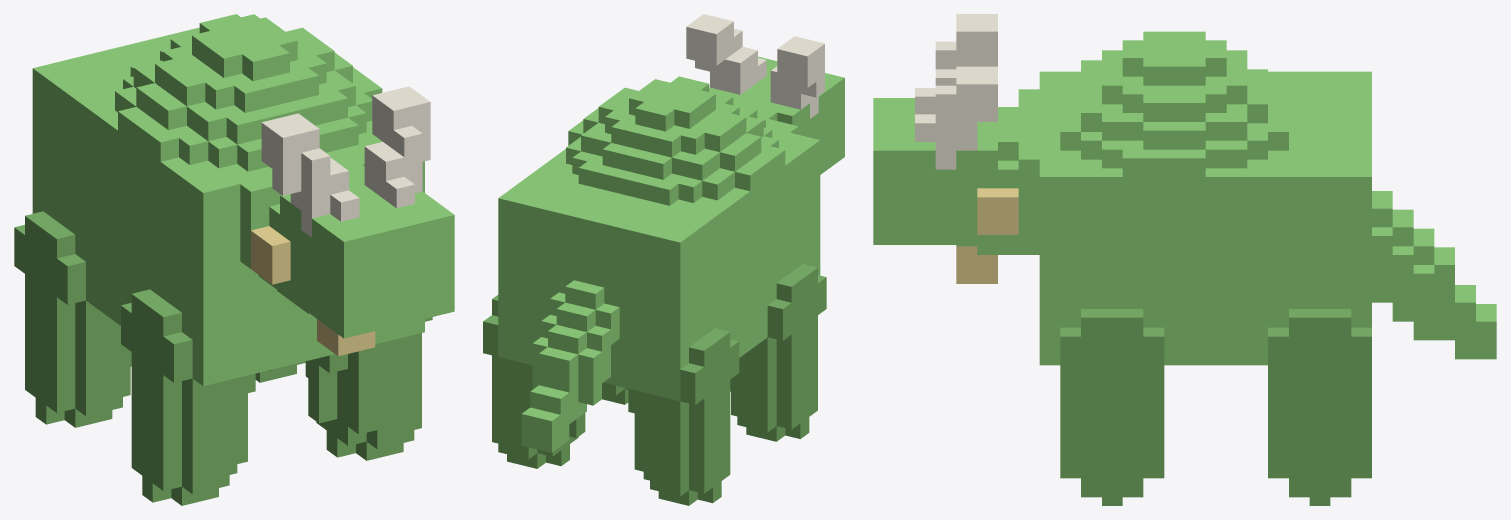
File: bovine-42.glb
The picture shows the model from 3 angles, left to right: view 1: azimuth 30°, elevation 25°; view 2: azimuth 150°, elevation 25°; view 3: azimuth 270°, elevation 25°; orthographic projection. The views are drawn at different scales.
Parts seen in each view (by area): view 1: body, head, legFL, legBL, legFR, hornLeft, hornRight, collar, neck; view 2: body, legBL, legFL, tail, legBR, head, hornRight, hornLeft, legFR; view 3: body, legFR, legBR, head, tail, hornRight, hornLeft, collar, neck.
Part boxes in pixels (x1,y1,x2,y2): body: (32,14,424,386); head: (280,174,454,338); legFL: (121,289,255,505); legBL: (14,211,131,427); legFR: (305,317,432,460); hornLeft: (261,113,359,237); hornRight: (364,86,430,208); collar: (251,226,375,356); neck: (269,165,364,314); body: (498,76,820,400); legBL: (628,328,739,505); legFL: (730,264,826,441); tail: (521,280,619,452); legBR: (483,295,585,468); head: (709,56,844,174); hornRight: (686,14,766,94); hornLeft: (770,36,824,118); legFR: (602,382,628,404); body: (1018,31,1371,365); legFR: (1060,309,1164,505); legBR: (1268,309,1371,505); head: (873,98,997,244); tail: (1372,191,1496,359); hornRight: (915,66,997,169); hornLeft: (915,14,997,114); collar: (956,188,1018,283); neck: (956,107,1039,254).
Bounding box in the file's own units: 0.63 × 0.945 × 1.35.
